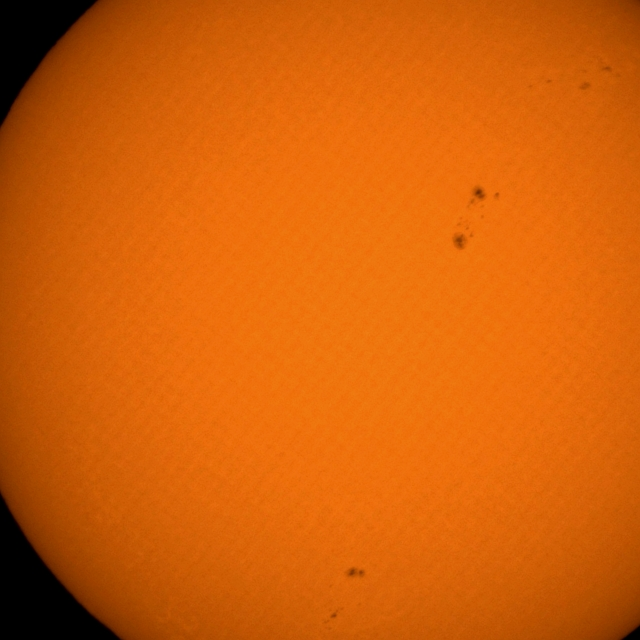sunspot: (466, 185, 500, 213), (451, 216, 474, 252), (322, 606, 343, 631), (600, 63, 622, 79), (344, 566, 366, 581), (578, 79, 592, 93)
